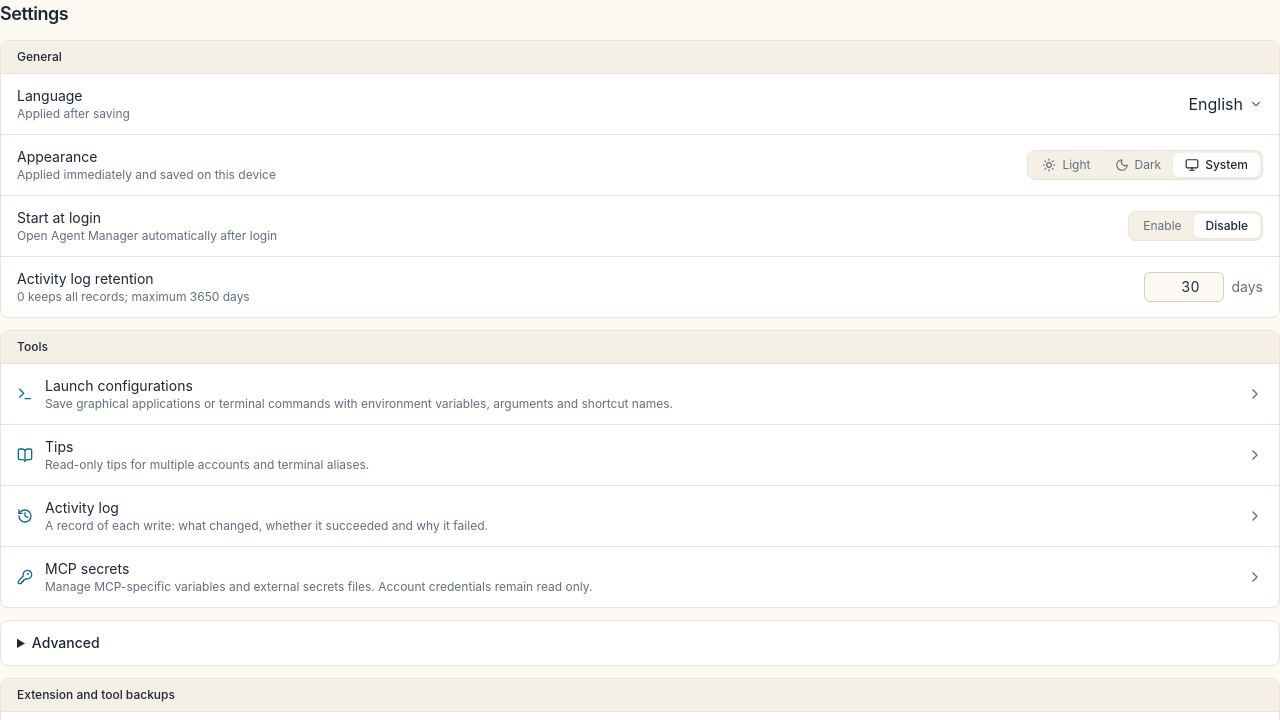
Scenario: application language › keeps the actual language on save failure and leaves the draft available to retry
The width and height of the screenshot is (1280, 720).
What coordinates should you click on to do the following:
click the dropdown named "Language"
I would click on:
 (1226, 104)
Its box is 1188,92 -> 1263,116.
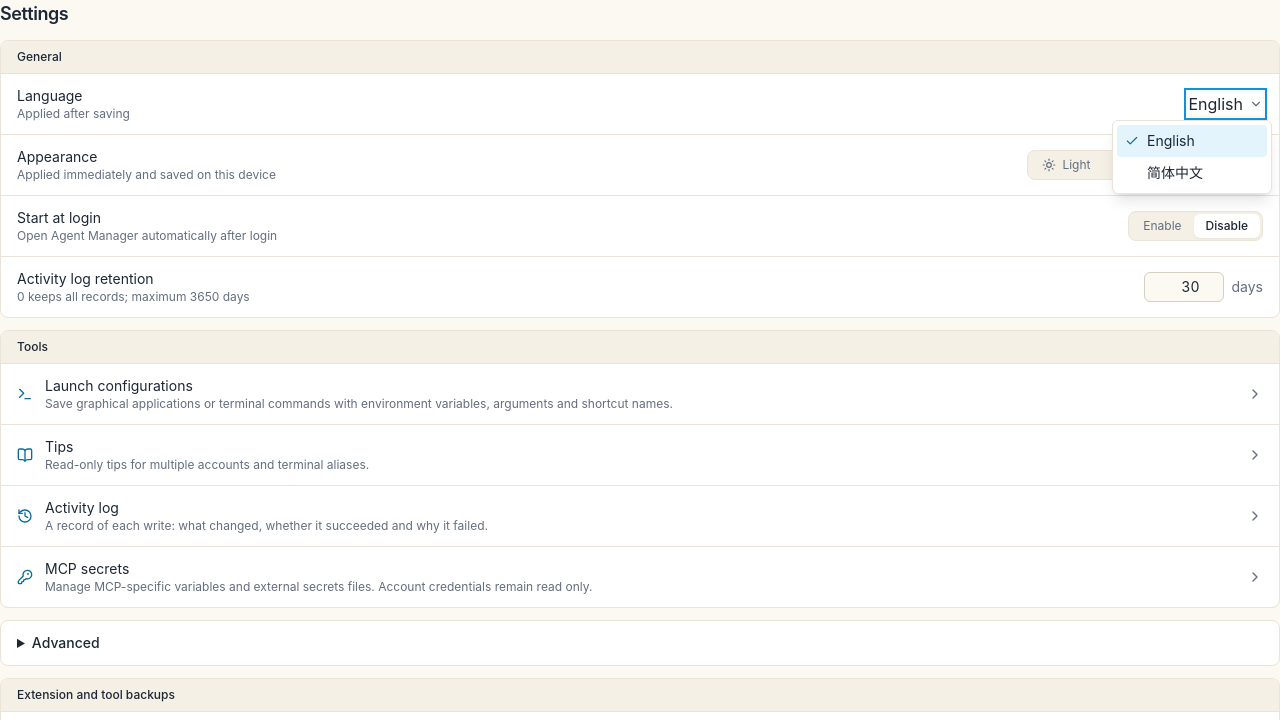
What coordinates should you click on to do the following:
click the option "简体中文"
I would click on:
 (1175, 172)
Its box is 1147,164 -> 1203,181.
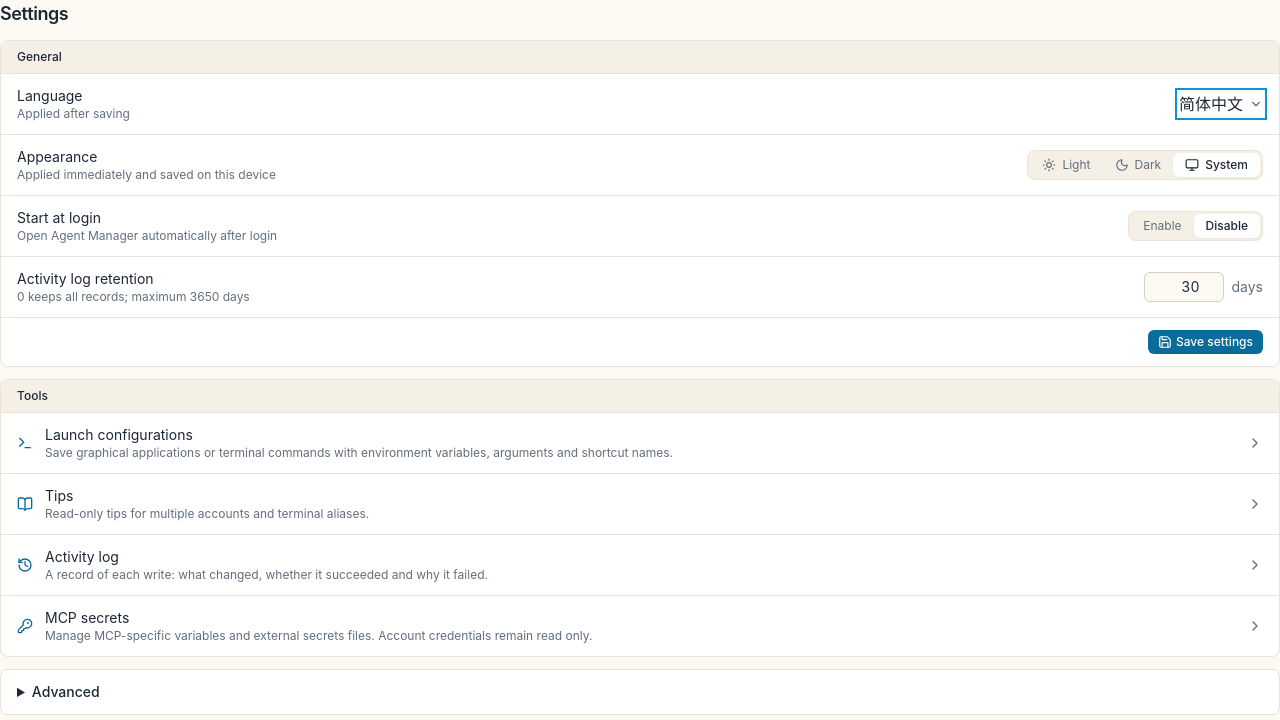
What coordinates should you click on to do the following:
click the button "Save settings"
I would click on:
 (1205, 342)
Its box is 1148,330 -> 1263,354.
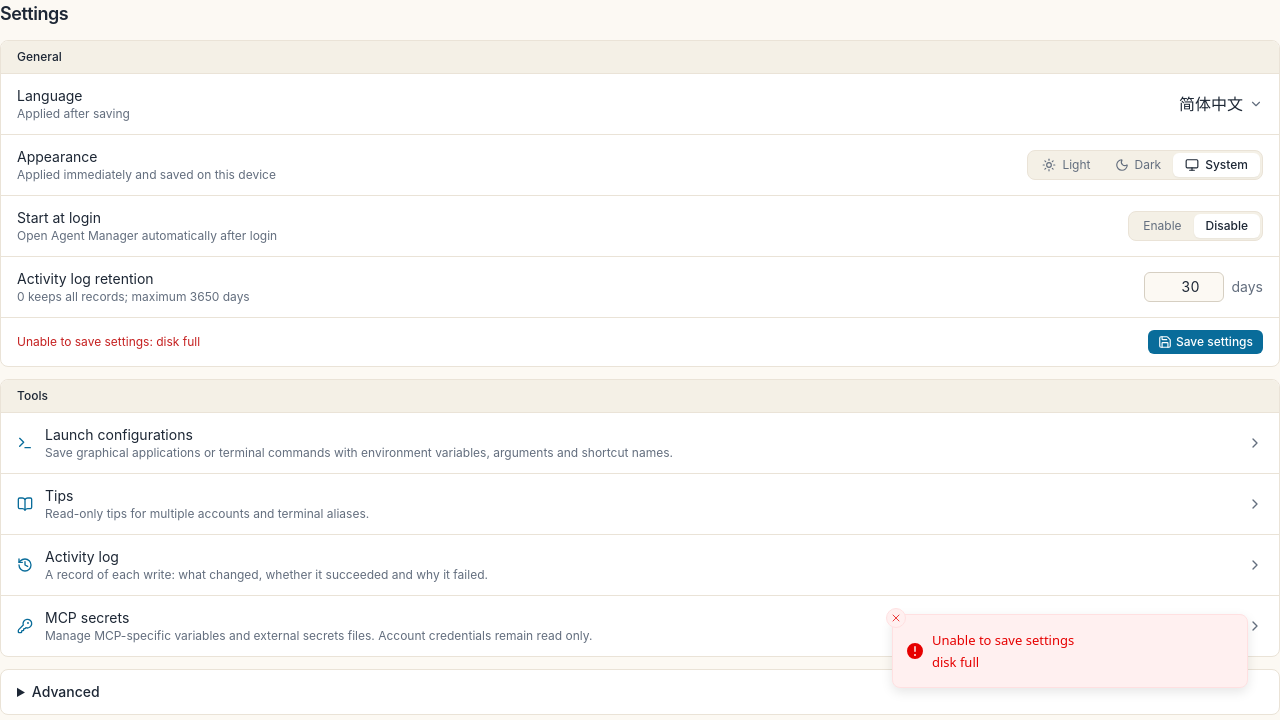
Now the button "Save settings" is enabled, box 1148,330 -> 1263,354
Now the message reads "Unable to save settings: disk full", box 17,334 -> 200,349
